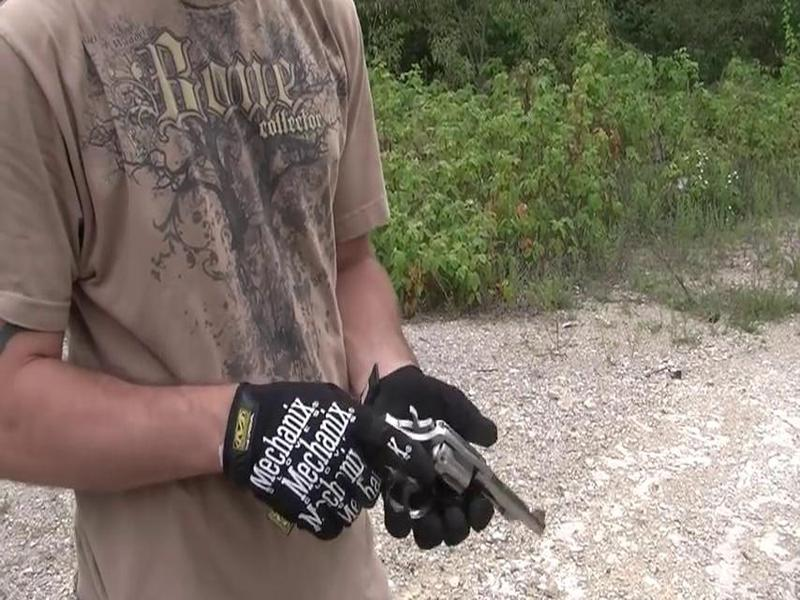Revolver: (375, 386, 552, 554)
